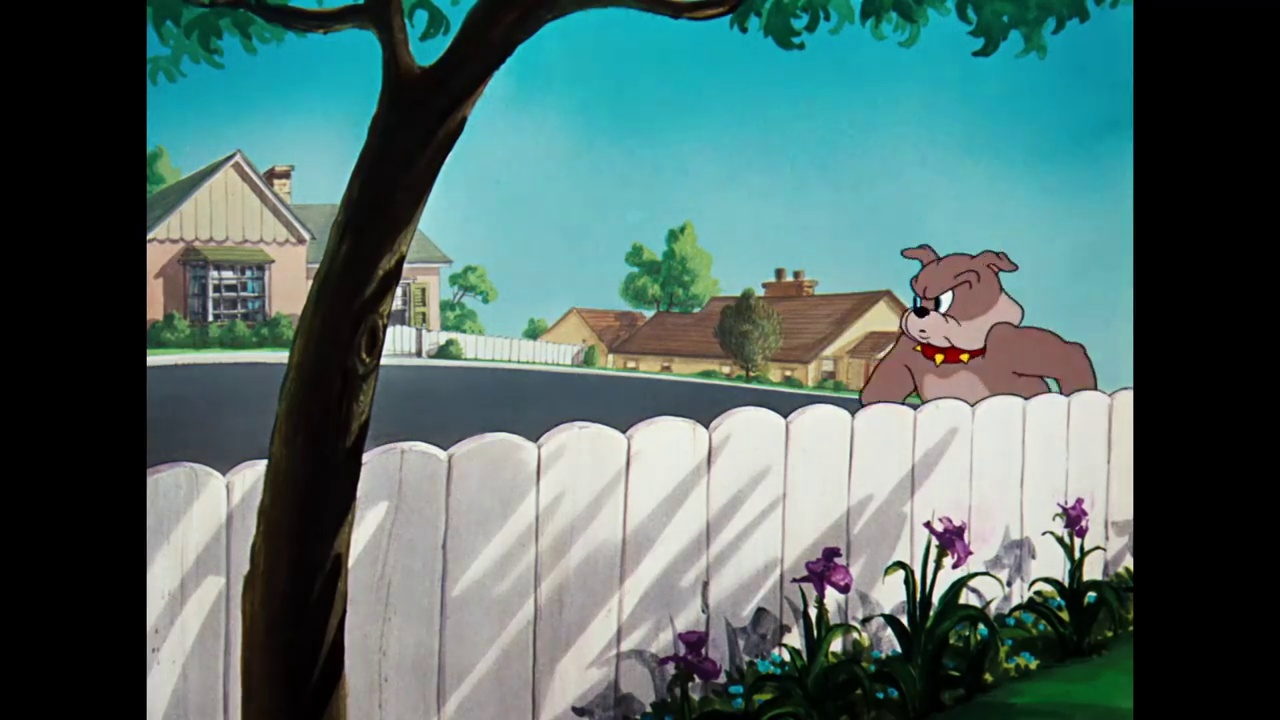spike: (893, 240, 1029, 368)
